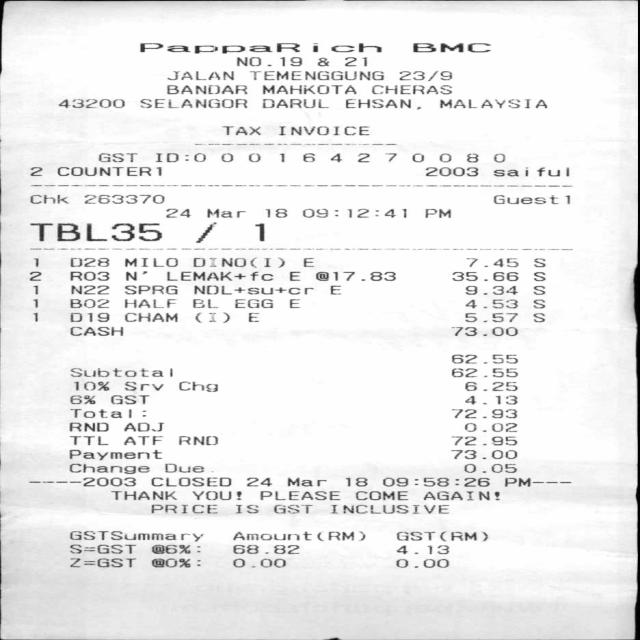text: (138, 42, 380, 53), (28, 222, 160, 240), (69, 530, 202, 541), (249, 70, 381, 80), (192, 285, 312, 294), (329, 504, 447, 513), (56, 166, 162, 176), (191, 257, 284, 268), (68, 449, 160, 460), (438, 99, 546, 108), (139, 98, 245, 107), (166, 271, 272, 280), (382, 477, 488, 486), (302, 208, 404, 217), (277, 125, 368, 135), (395, 531, 486, 541), (70, 368, 171, 377), (68, 463, 148, 474), (344, 98, 420, 109), (262, 85, 354, 94), (370, 84, 450, 94), (259, 490, 339, 500), (411, 42, 489, 52), (492, 194, 570, 204), (68, 408, 144, 418), (166, 85, 246, 94), (82, 194, 162, 203), (314, 271, 394, 280), (231, 531, 310, 540), (492, 167, 570, 176), (151, 477, 229, 486), (423, 491, 498, 500), (166, 70, 232, 80), (452, 271, 517, 281), (450, 326, 515, 336), (450, 408, 515, 418), (450, 449, 515, 459), (110, 490, 175, 500), (237, 56, 300, 66), (260, 98, 327, 107), (68, 544, 134, 553), (450, 354, 515, 363), (450, 368, 515, 377), (450, 436, 515, 445), (150, 504, 215, 513), (232, 544, 297, 553), (398, 70, 451, 81), (58, 99, 122, 108), (123, 434, 161, 448), (69, 326, 122, 336), (354, 490, 407, 500), (231, 557, 284, 567), (68, 558, 134, 566), (124, 312, 176, 322), (464, 312, 516, 322), (464, 381, 516, 391), (464, 422, 516, 432), (395, 544, 447, 554), (154, 152, 203, 162), (124, 298, 173, 308), (191, 490, 240, 500), (81, 477, 135, 486), (150, 557, 198, 567), (424, 167, 477, 176), (462, 463, 515, 472), (124, 257, 176, 266), (124, 285, 176, 294), (464, 285, 516, 294), (464, 299, 516, 308), (464, 395, 516, 404), (395, 558, 447, 567), (150, 544, 198, 553), (316, 531, 363, 540), (194, 222, 215, 242), (468, 258, 516, 266), (98, 152, 136, 162), (69, 298, 107, 308), (69, 312, 107, 322), (178, 381, 216, 391), (109, 394, 147, 404), (205, 208, 244, 217), (287, 477, 326, 486), (29, 194, 67, 203), (69, 257, 107, 266), (69, 271, 107, 280), (69, 285, 107, 294), (124, 422, 162, 431), (69, 422, 107, 431), (164, 463, 202, 472), (273, 504, 311, 513), (194, 312, 228, 322), (124, 381, 161, 390), (72, 381, 108, 390), (233, 299, 271, 307), (69, 436, 107, 444), (178, 436, 216, 444), (222, 126, 259, 134), (503, 477, 531, 487), (68, 394, 94, 404), (423, 208, 449, 217), (245, 477, 270, 486), (344, 56, 366, 66), (166, 208, 188, 217), (253, 223, 264, 241), (344, 477, 366, 486), (235, 504, 257, 513), (125, 271, 146, 280), (193, 299, 216, 307), (265, 208, 285, 217), (356, 152, 369, 162), (438, 152, 451, 162), (492, 153, 506, 162), (302, 152, 314, 162), (302, 257, 314, 267), (220, 152, 233, 161), (533, 271, 544, 281), (532, 312, 543, 322), (466, 153, 478, 162), (411, 153, 423, 162), (28, 271, 40, 280), (247, 153, 260, 161), (329, 153, 342, 161), (247, 312, 257, 322), (317, 57, 328, 66), (30, 166, 41, 175), (532, 285, 543, 294), (532, 299, 543, 308), (384, 153, 396, 161), (329, 285, 339, 294), (533, 258, 544, 266), (289, 271, 298, 280), (277, 152, 285, 162), (289, 299, 298, 307), (31, 312, 36, 322), (32, 285, 36, 294), (33, 258, 37, 266), (32, 299, 36, 307)
